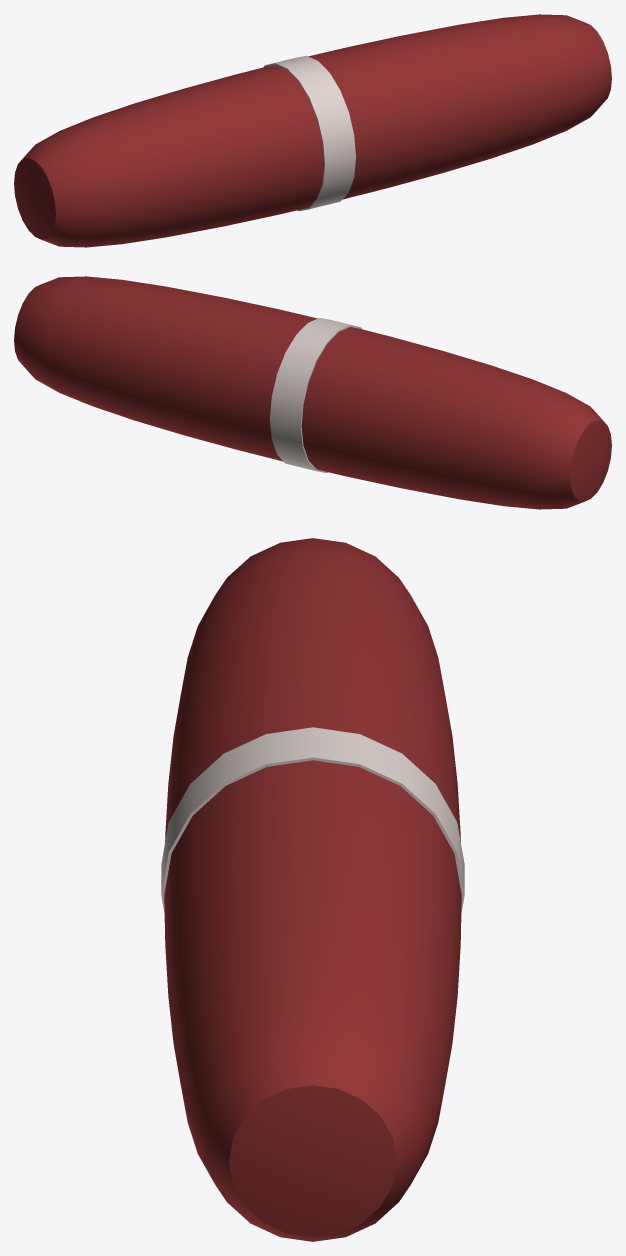
File: Salami.fbx
3 views of the same model, one above another, from view 1: azimuth 30°, elevation 25°; view 2: azimuth 150°, elevation 25°; view 3: azimuth 270°, elevation 25° (orthographic). The views are drawn at different scales.
Visible parts, largest first — view 1: Salami; view 2: Salami; view 3: Salami.
Boxes of the visible parts, x1=… form: Salami: x1=14, y1=14, x2=611, y2=247; Salami: x1=14, y1=276, x2=611, y2=509; Salami: x1=161, y1=538, x2=464, y2=1241.
Bounding box in the file's own units: 0.22 × 0.051 × 0.051.
